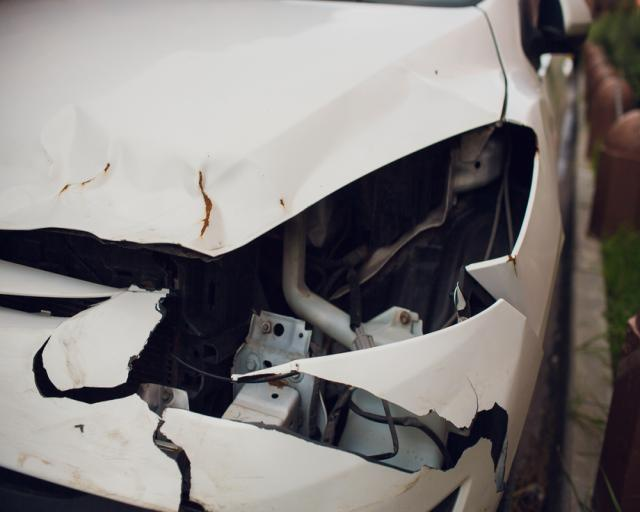crack: (32, 290, 509, 512)
dent: (0, 108, 258, 255)
